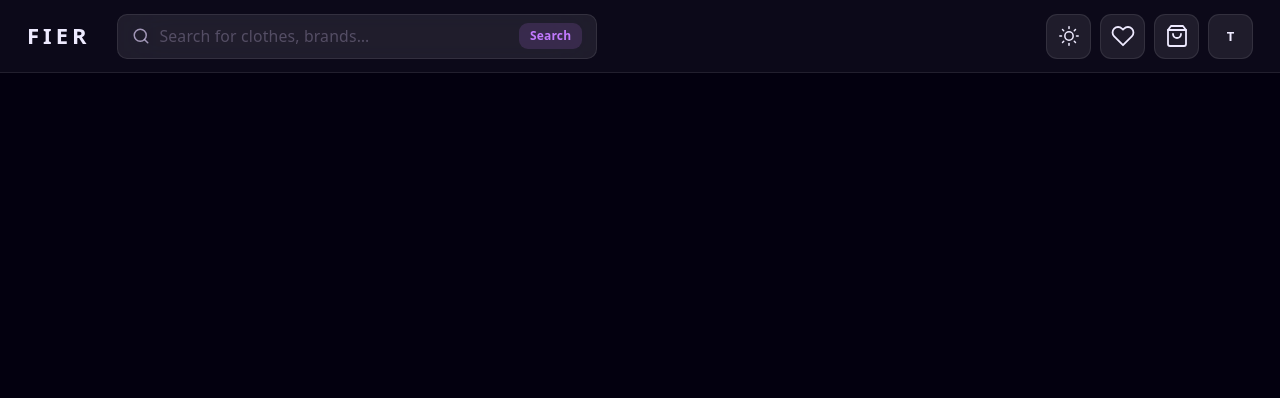
Test: Navbar › shows user email in dropdown when logged in
The image size is (1280, 398).
Step 1. Click the button named "account menu" → {"x": 1230, "y": 36}, box [1208, 14, 1253, 58]
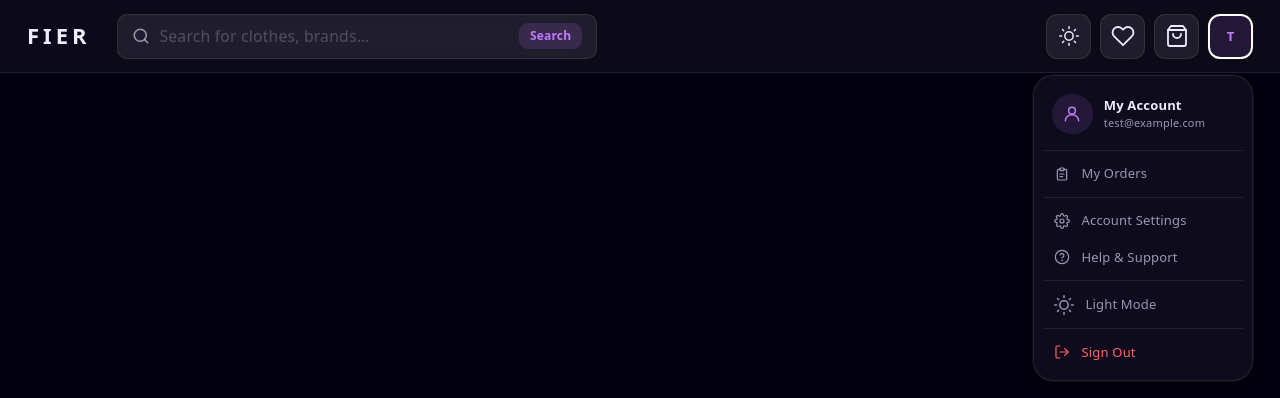
Expected: the text "test@example.com" is shown, [1104, 115, 1205, 131]
